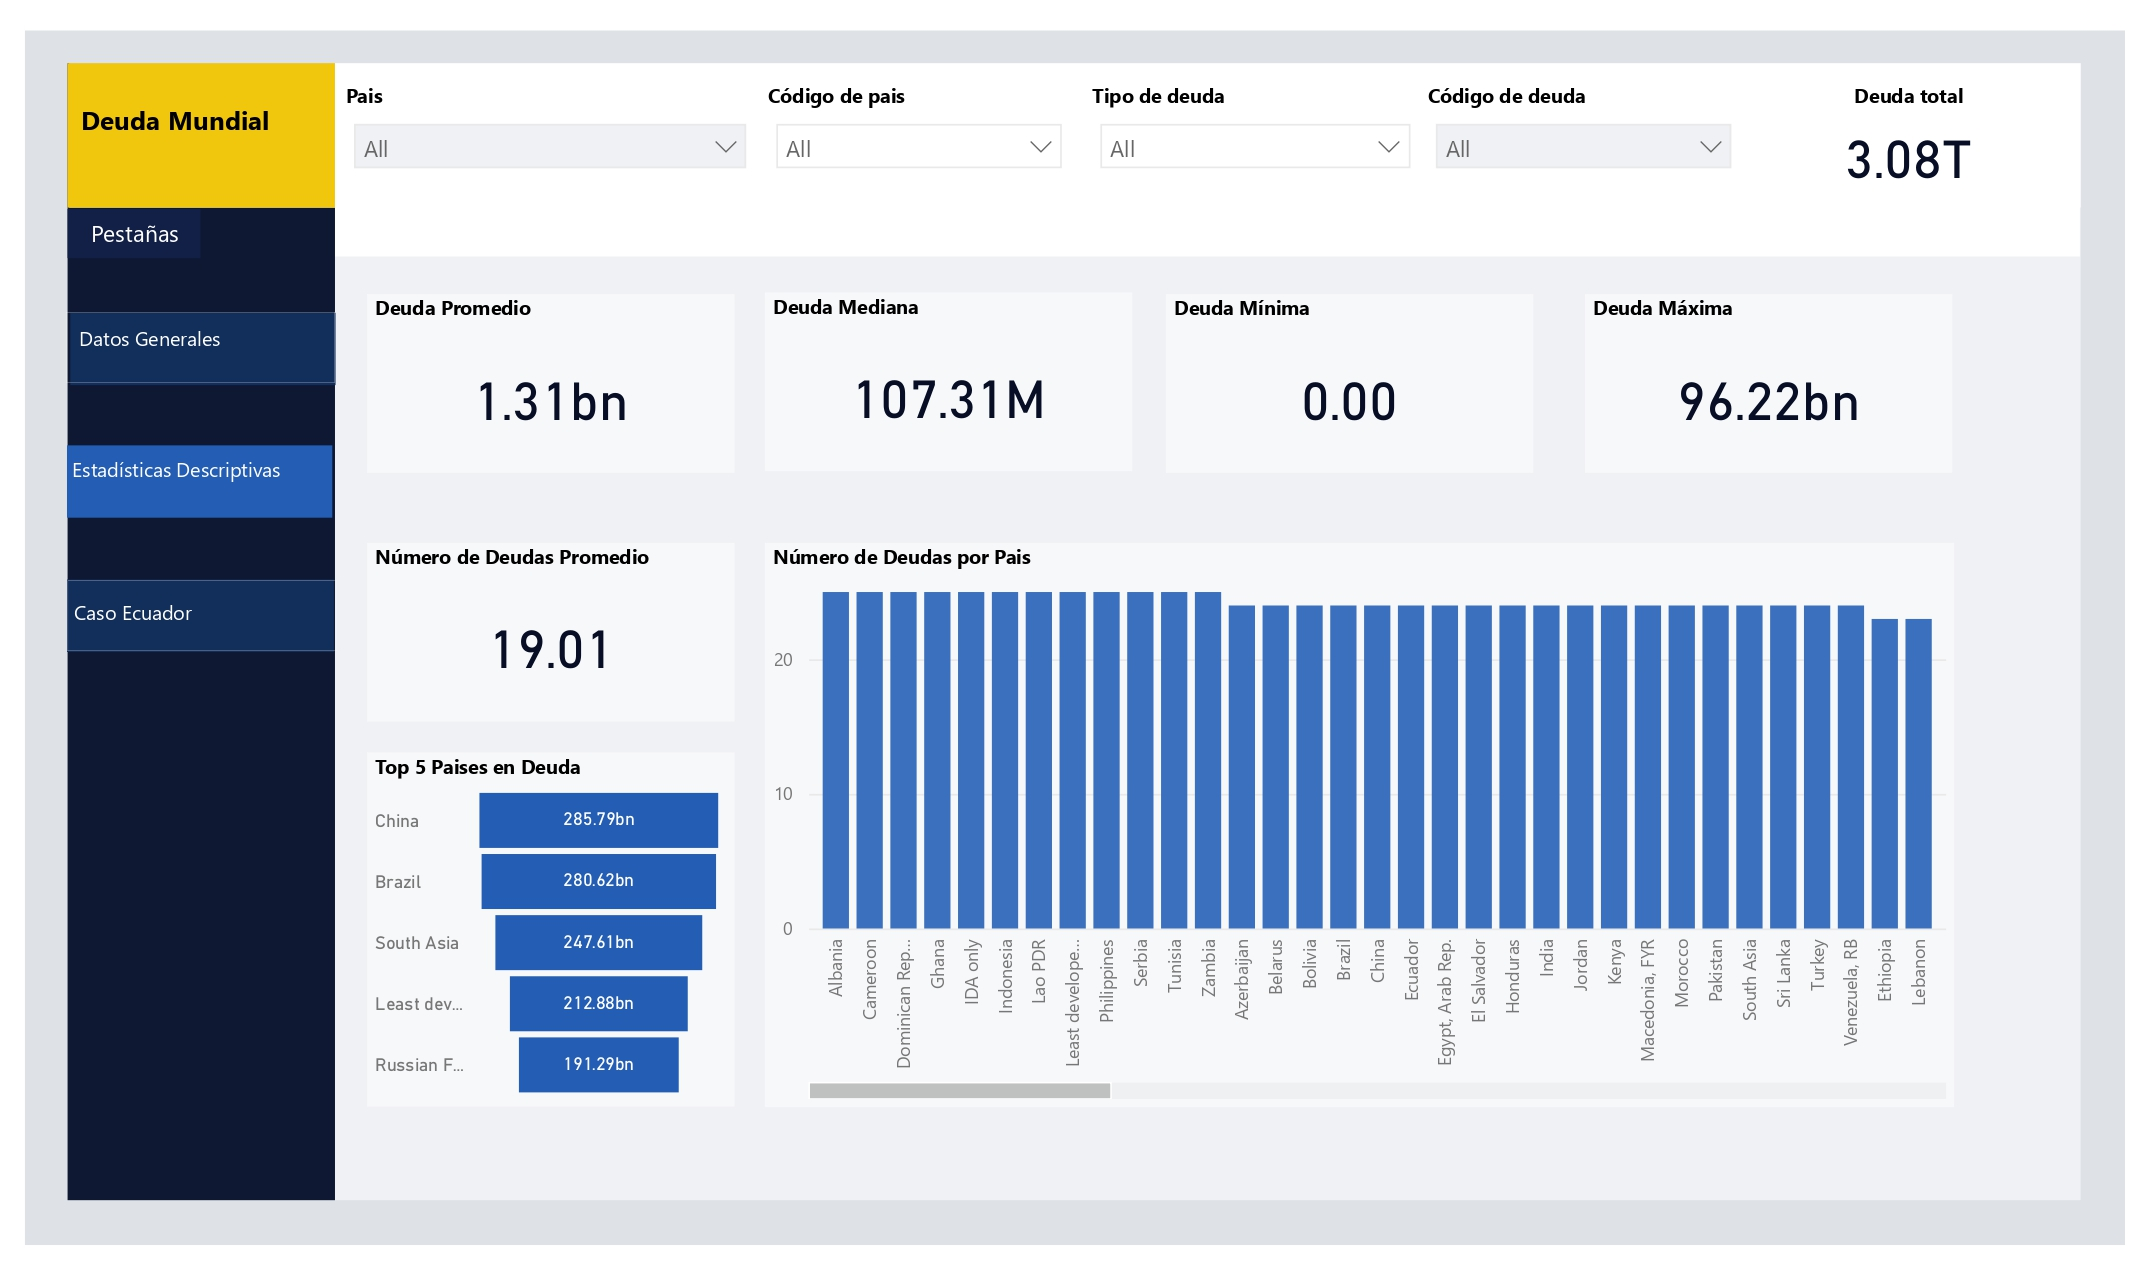

The dashboard page shown, as its layout file describes it:
{"tool":"powerbi","page":{"name":"Descriptivas","canvas":[1280,720],"ordinal":1},"visuals":[{"type":"basicShape","title":"(0) Main Background","box":[26,0,1227,693],"z":0},{"type":"basicShape","title":"(0) Title Area","box":[187.4,87.2,1065.3,30.6],"z":1000},{"type":"basicShape","title":"(0) Pane Area","box":[26,0,163.4,693.2],"z":2000},{"type":"basicShape","title":"(0) Filter Area","box":[27.1,0,1225.5,87.9],"z":3000},{"type":"basicShape","title":"(2) Pages - Bg Selected","box":[25.5,88.4,80.6,30.5],"z":4000},{"type":"basicShape","title":"(2) Pages 1 - Click","box":[25.5,151.3,165,45.2],"z":8000},{"type":"basicShape","title":"(0) Logo Area","box":[26,0,163,88],"z":10000},{"type":"textbox","title":"(2) Pages - Select TXT","box":[24.6,88.4,84.5,36.3],"z":11000},{"type":"basicShape","title":"(0) BM2 - Click","box":[28.5,85.5,80.6,33.4],"z":14000},{"type":"textbox","box":[28.8,18.9,158.6,65.8],"z":16000},{"type":"slicer","title":"Código de pais","fields":{"Values":["international_debt.country_code"]},"box":[447.6,10.7,194.2,104.2],"z":17000},{"type":"slicer","title":"Tipo de deuda","fields":{"Values":["international_debt.indicator_name"]},"box":[645.4,10.7,208.6,103],"z":18000},{"type":"slicer","title":"Código de deuda","fields":{"Values":["international_debt.indicator_code"]},"box":[850.1,10.7,200.3,86.4],"z":19000},{"type":"slicer","title":"Pais","fields":{"Values":["international_debt.country_name"]},"box":[190.7,10.7,259.3,86.4],"z":20000},{"type":"card","title":"Deuda total","fields":{"Values":["Sum(international_debt.debt)"]},"box":[1043.3,10.8,209.2,95.3],"z":21000},{"type":"textbox","title":"(2) Pages 1 - TXT 1","box":[27.5,152.3,146.4,43.2],"z":22000},{"type":"basicShape","title":"(2) Pages 1 - Click","box":[24.4,232.5,165,45.2],"z":23000},{"type":"textbox","title":"(2) Pages 1 - TXT 1","box":[24.4,232.5,149.3,45.2],"z":24000},{"type":"card","title":"Deuda Promedio","fields":{"Values":["international_debt.Measure"]},"box":[208.3,140.5,224,109],"z":25000},{"type":"card","title":"Deuda Máxima","fields":{"Values":["international_debt.DeudaMaxima"]},"box":[950.7,140.6,224.4,109],"z":26000},{"type":"card","title":"Deuda Mínima","fields":{"Values":["international_debt.DeudaMinima"]},"box":[695.5,140.5,224,109],"z":27000},{"type":"card","title":"Deuda Mediana","fields":{"Values":["international_debt.DeudaMedia"]},"box":[450.6,139.7,224.4,109],"z":28000},{"type":"columnChart","title":"Número de Deudas por Pais","fields":{"Category":["international_debt_noDeDeudas.country_name"],"Y":["Max(international_debt_noDeDeudas.Numero de Deudas)"]},"box":[450.6,292,724.5,344.2],"z":29000},{"type":"card","title":"Número de Deudas Promedio","fields":{"Values":["Avg(international_debt_noDeDeudas.Numero de Deudas)"]},"box":[208.2,292,224.4,109],"z":30000},{"type":"funnel","title":"Top 5 Paises en Deuda","fields":{"Category":["international_debt_top5.country_name"],"Y":["Sum(international_debt_top5.Total Debt)"]},"box":[208.2,419.9,224.4,216.3],"z":31000},{"type":"basicShape","title":"(2) Pages 1 - Click","box":[24.4,314.5,165.8,45.1],"z":34000},{"type":"textbox","title":"(2) Pages 1 - TXT 1","box":[25.3,319,146,40.6],"z":35000},{"type":"actionButton","box":[25.2,151.4,164,43.3],"z":35001},{"type":"actionButton","box":[26.1,315.4,164,43.3],"z":35002}]}

Visuals, with their boxes on the page's 1280x720 design canvas (x1, y1, x2, y2). These are canvas units, not pixel positions in the 2150x1275 screenshot, which may show the page scaled, cropped or inside an application window:
"(0) Main Background" basicShape: region(26, 0, 1253, 693)
"(0) Title Area" basicShape: region(187, 87, 1253, 118)
"(0) Pane Area" basicShape: region(26, 0, 189, 693)
"(0) Filter Area" basicShape: region(27, 0, 1253, 88)
"(2) Pages - Bg Selected" basicShape: region(26, 88, 106, 119)
"(2) Pages 1 - Click" basicShape: region(26, 151, 190, 196)
"(0) Logo Area" basicShape: region(26, 0, 189, 88)
"(2) Pages - Select TXT" textbox: region(25, 88, 109, 125)
"(0) BM2 - Click" basicShape: region(28, 86, 109, 119)
textbox: region(29, 19, 187, 85)
"Código de pais" slicer: region(448, 11, 642, 115)
"Tipo de deuda" slicer: region(645, 11, 854, 114)
"Código de deuda" slicer: region(850, 11, 1050, 97)
"Pais" slicer: region(191, 11, 450, 97)
"Deuda total" card: region(1043, 11, 1252, 106)
"(2) Pages 1 - TXT 1" textbox: region(28, 152, 174, 196)
"(2) Pages 1 - Click" basicShape: region(24, 232, 189, 278)
"(2) Pages 1 - TXT 1" textbox: region(24, 232, 174, 278)
"Deuda Promedio" card: region(208, 140, 432, 250)
"Deuda Máxima" card: region(951, 141, 1175, 250)
"Deuda Mínima" card: region(696, 140, 920, 250)
"Deuda Mediana" card: region(451, 140, 675, 249)
"Número de Deudas por Pais" columnChart: region(451, 292, 1175, 636)
"Número de Deudas Promedio" card: region(208, 292, 433, 401)
"Top 5 Paises en Deuda" funnel: region(208, 420, 433, 636)
"(2) Pages 1 - Click" basicShape: region(24, 314, 190, 360)
"(2) Pages 1 - TXT 1" textbox: region(25, 319, 171, 360)
actionButton: region(25, 151, 189, 195)
actionButton: region(26, 315, 190, 359)
